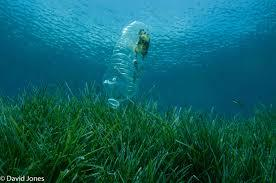Plastic: (93, 8, 161, 119)
